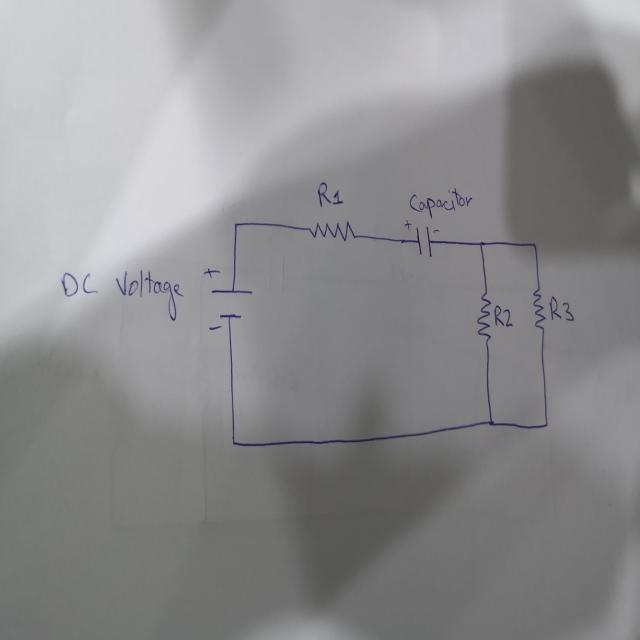capacitor: (403, 218, 442, 259)
junction: (485, 412, 497, 432), (542, 414, 550, 432), (231, 217, 240, 233), (476, 237, 486, 251), (229, 434, 238, 449), (530, 238, 538, 251)
resistor: (308, 219, 356, 242), (476, 288, 492, 346), (531, 285, 545, 331)
source: (210, 285, 254, 321)
text: (58, 265, 186, 324), (407, 184, 473, 220), (547, 295, 575, 324), (316, 180, 343, 208), (494, 302, 514, 329)
